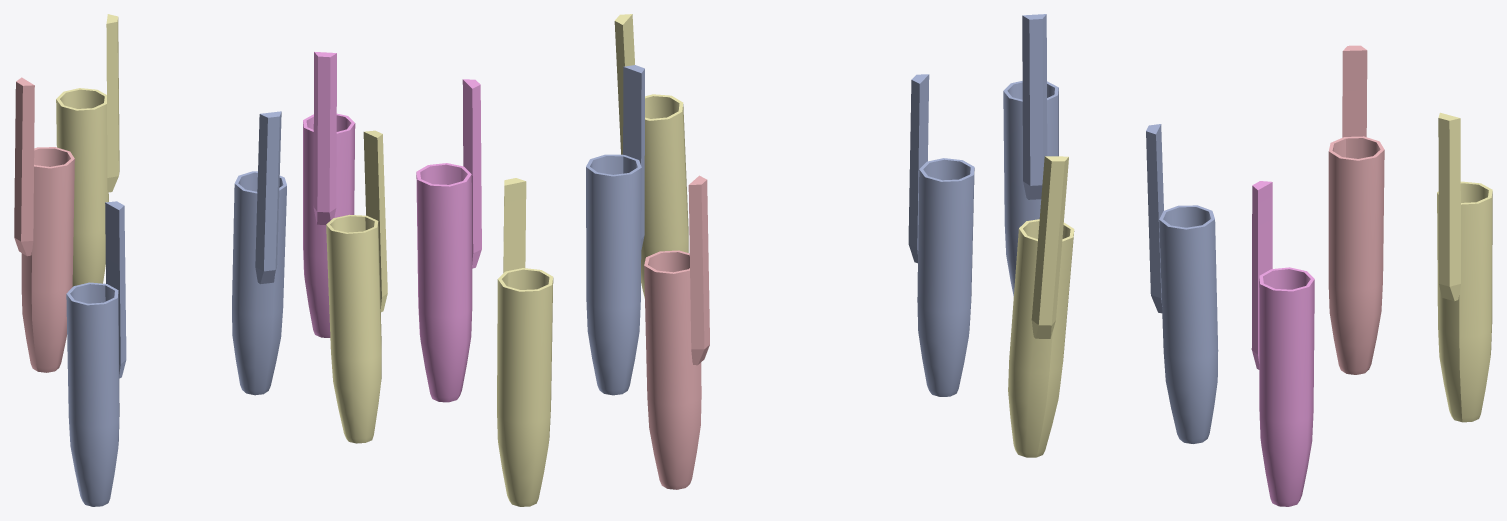
The model's file is 볼펜세워진거 1.fbx.
3 renders of one model, left to right at view 1: azimuth 30°, elevation 25°; view 2: azimuth 150°, elevation 25°; view 3: azimuth 270°, elevation 25°, orthographic. The views are drawn at different scales.
Parts seen in each view (by area): view 1: hood_01.008, hood_01.006, hood_01.002, hood_01.005, hood_01.001, hood_01.007; view 2: hood_01.007, hood_01.002, hood_01.006, hood_01.005, hood_01.001, hood_01.008; view 3: hood_01.005, hood_01.007, hood_01.002, hood_01.001, hood_01.008, hood_01.006.
Boxes of the visible parts, x1=… form: hood_01.008: x1=326, y1=130, x2=387, y2=443; hood_01.006: x1=66, y1=201, x2=126, y2=506; hood_01.002: x1=14, y1=77, x2=74, y2=372; hood_01.005: x1=232, y1=111, x2=286, y2=395; hood_01.001: x1=56, y1=14, x2=119, y2=286; hood_01.007: x1=303, y1=51, x2=355, y2=337; hood_01.007: x1=416, y1=79, x2=481, y2=402; hood_01.002: x1=644, y1=175, x2=709, y2=489; hood_01.006: x1=908, y1=74, x2=974, y2=396; hood_01.005: x1=586, y1=65, x2=644, y2=395; hood_01.001: x1=497, y1=178, x2=553, y2=506; hood_01.008: x1=614, y1=14, x2=688, y2=298; hood_01.005: x1=1146, y1=124, x2=1218, y2=443; hood_01.007: x1=1251, y1=181, x2=1314, y2=506; hood_01.002: x1=1328, y1=45, x2=1384, y2=374; hood_01.001: x1=1437, y1=112, x2=1492, y2=422; hood_01.008: x1=1008, y1=156, x2=1074, y2=457; hood_01.006: x1=1003, y1=14, x2=1058, y2=296.
Size of the model in its own units: 789 by 553 by 783.
